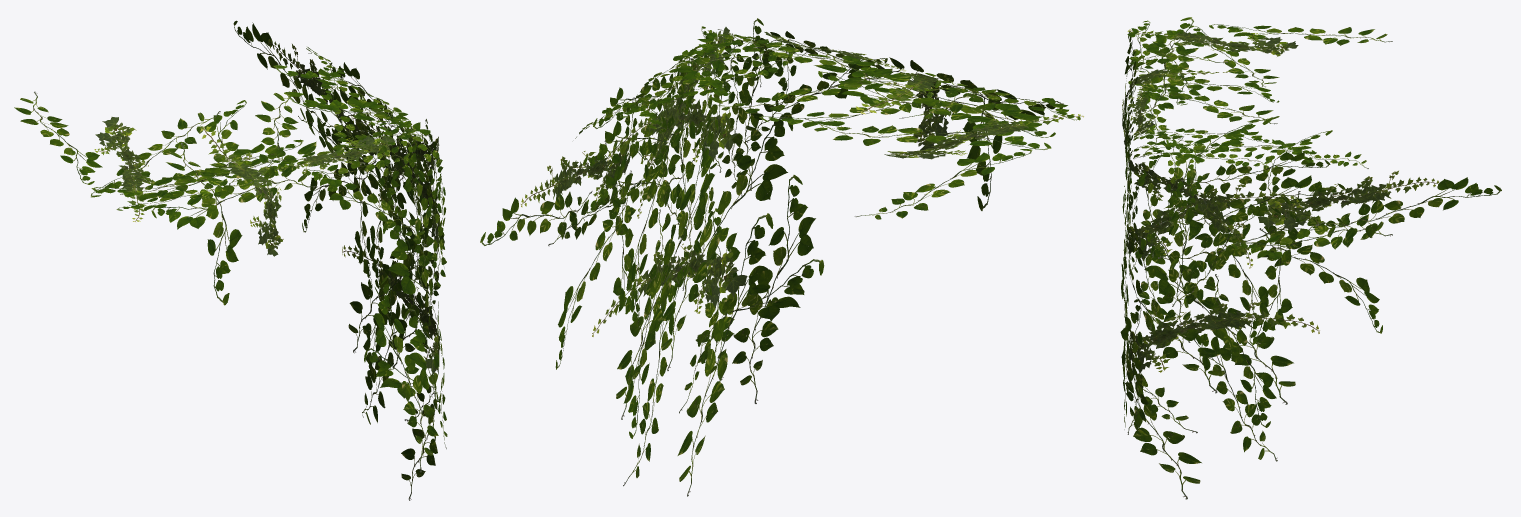
File: SM_Prop_Ivy_TopCorner.fbx
3 renders of one model, left to right at view 1: azimuth 30°, elevation 25°; view 2: azimuth 150°, elevation 25°; view 3: azimuth 270°, elevation 25°, orthographic. The views are drawn at different scales.
Visible parts, largest first — view 1: SM_Prop_Ivy_TopCorner_LOD0; view 2: SM_Prop_Ivy_TopCorner_LOD0; view 3: SM_Prop_Ivy_TopCorner_LOD0.
Boxes of the visible parts, <box> form: SM_Prop_Ivy_TopCorner_LOD0: <box>14,20,447,500</box>; SM_Prop_Ivy_TopCorner_LOD0: <box>480,18,1083,496</box>; SM_Prop_Ivy_TopCorner_LOD0: <box>1120,17,1501,499</box>.
Size of the model in its own units: 166 by 187 by 190.
1 material, 1 textured.
